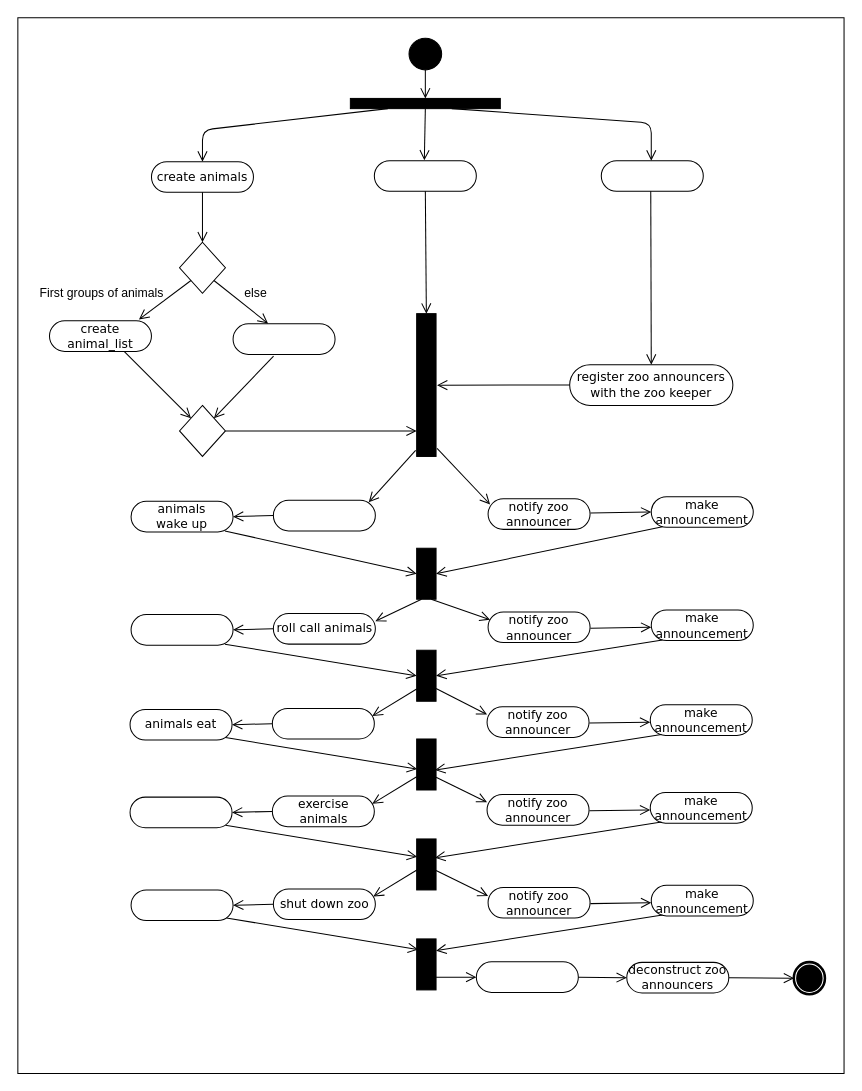
The diagram is 862 pixels wide and 1091 high, and some of its shapes have lost their labels. The box of each missing label's shape, as (x1, y1, x2, y2) in pixels:
add animals to animal_list: (232, 323, 335, 354)
animals make noise: (130, 614, 233, 645)
animals roam: (129, 796, 232, 828)
animals sleep: (130, 889, 233, 921)
create zoo announcer: (600, 160, 703, 191)
create zoo keeper: (373, 160, 476, 191)
feed animals: (271, 707, 374, 739)
unregister zoo announcers: (475, 961, 578, 992)
wake animals: (272, 499, 375, 531)
